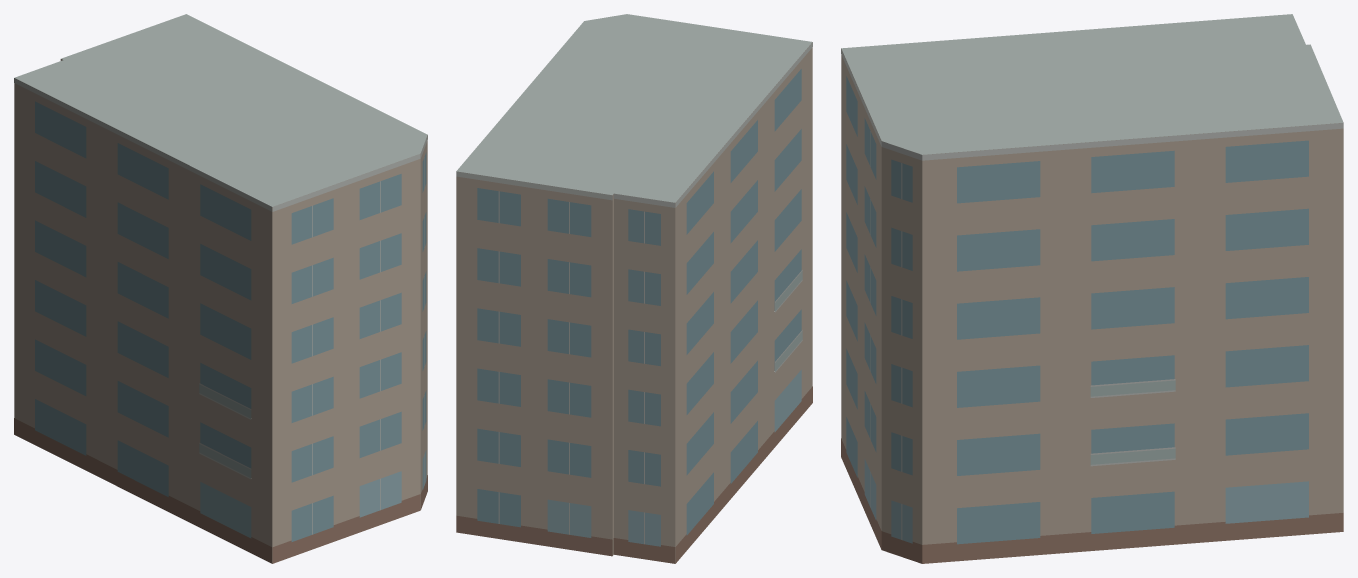
Rendered from survey-upis-32723730.glb.
3 renders of one model, left to right at view 1: azimuth 30°, elevation 25°; view 2: azimuth 150°, elevation 25°; view 3: azimuth 270°, elevation 25°, orthographic. The views are drawn at different scales.
Parts seen in each view (by area): view 1: survey-upis-32723730.tmp; view 2: survey-upis-32723730.tmp; view 3: survey-upis-32723730.tmp.
Part boxes in pixels (x1,y1,x2,y2): survey-upis-32723730.tmp: (14, 14, 427, 563); survey-upis-32723730.tmp: (456, 14, 812, 563); survey-upis-32723730.tmp: (841, 14, 1343, 563).
Size of the model in its own units: 12.64 by 17.1 by 19.05.
